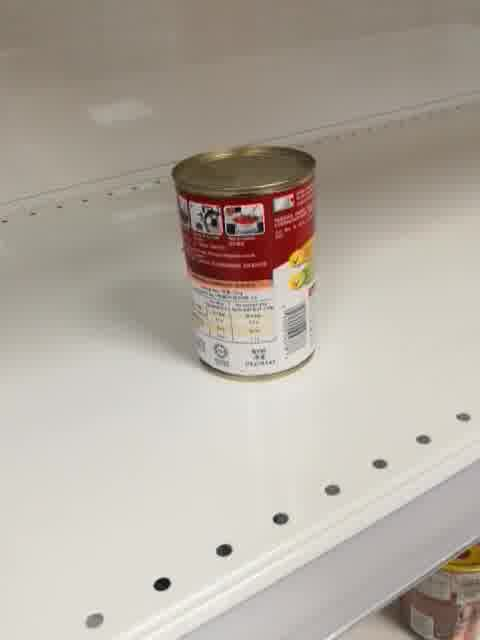tomatosoup: (171, 144, 318, 382)
